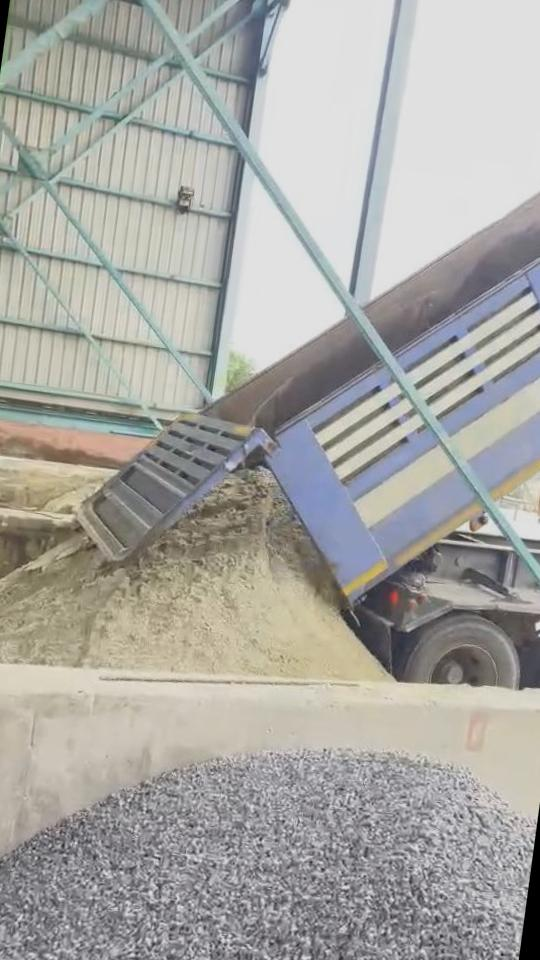gravel: (0, 751, 537, 960)
sand: (0, 472, 386, 680), (43, 487, 91, 513)
